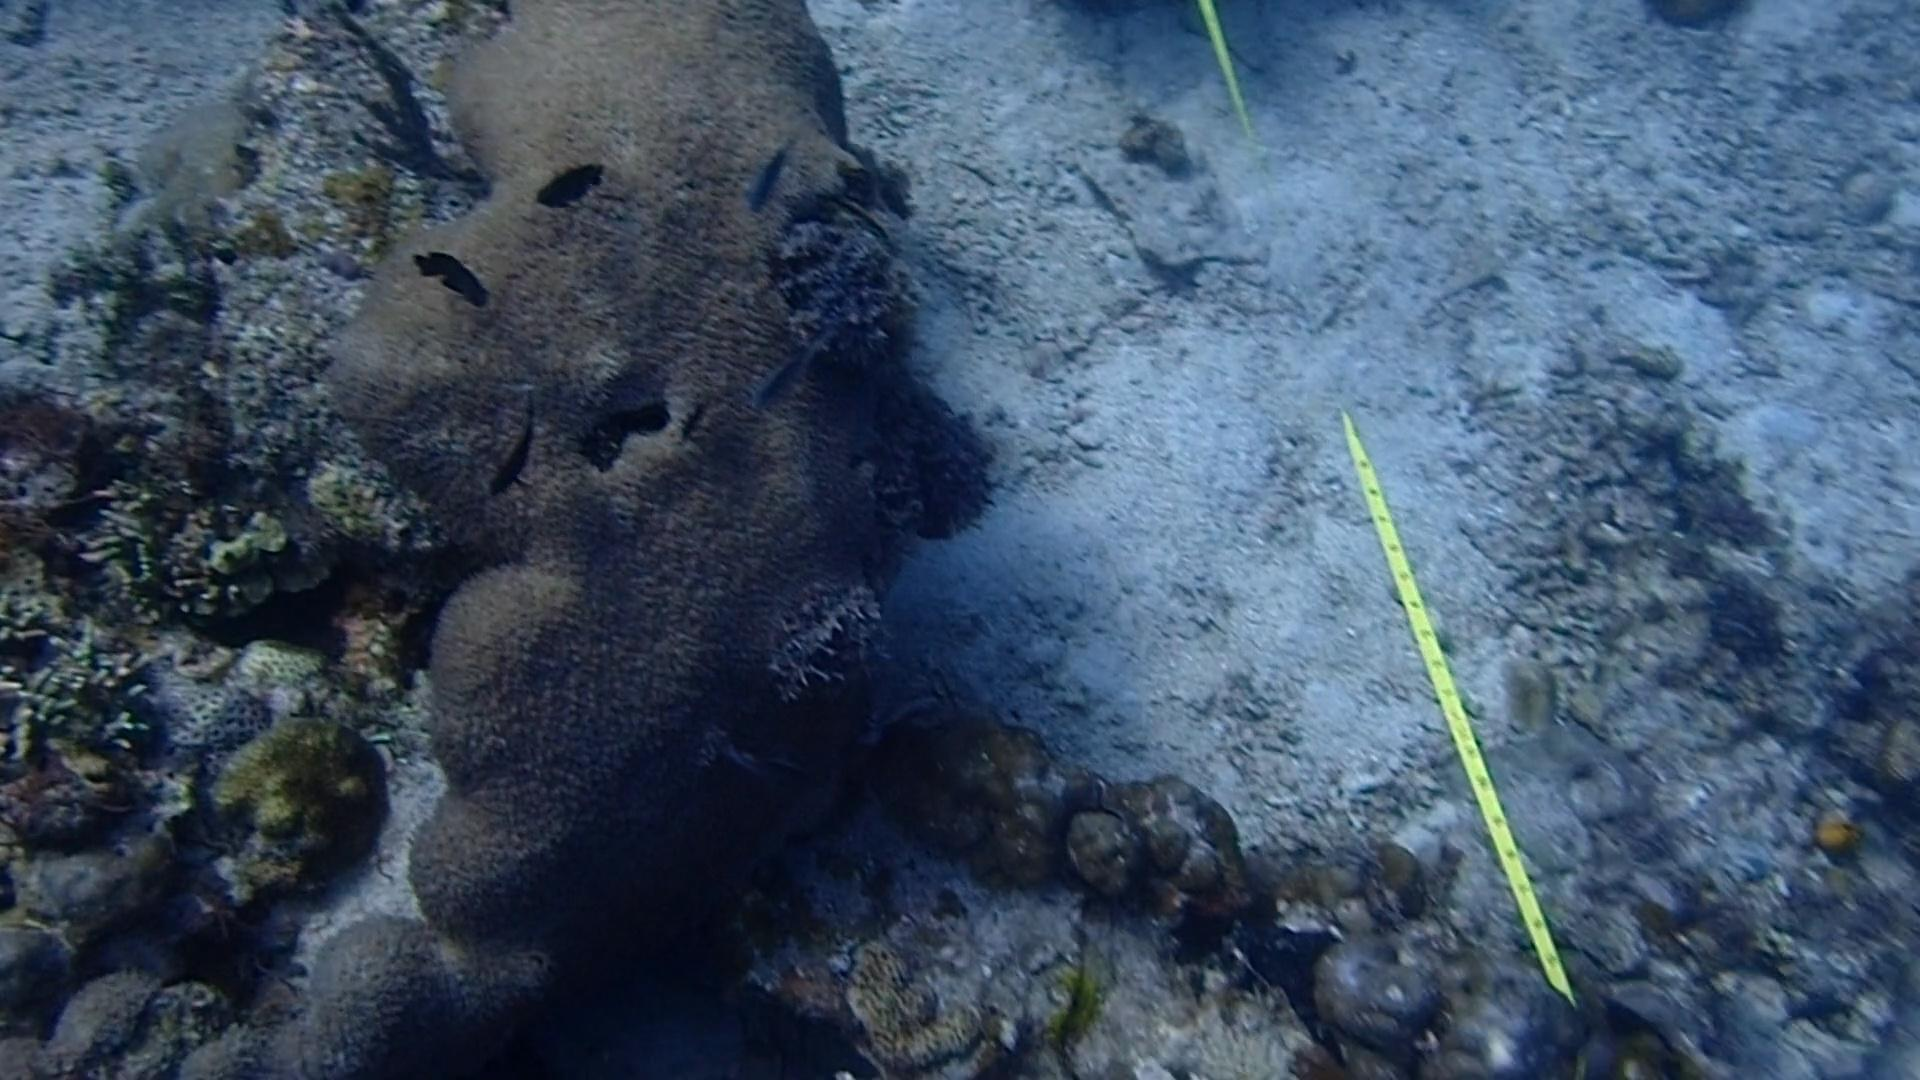Dark Fish: (1764, 975, 1867, 1042), (404, 241, 491, 314), (491, 397, 549, 501), (527, 150, 605, 218), (673, 393, 720, 447)
Light Fish: (744, 320, 827, 418), (705, 733, 806, 800), (729, 135, 790, 212)
